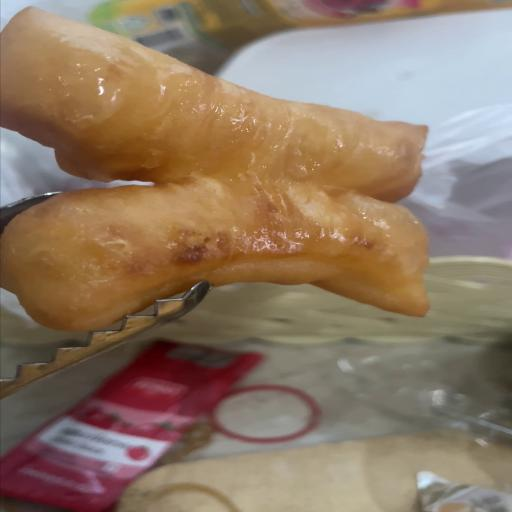street_golden_good: (0, 20, 430, 330)
